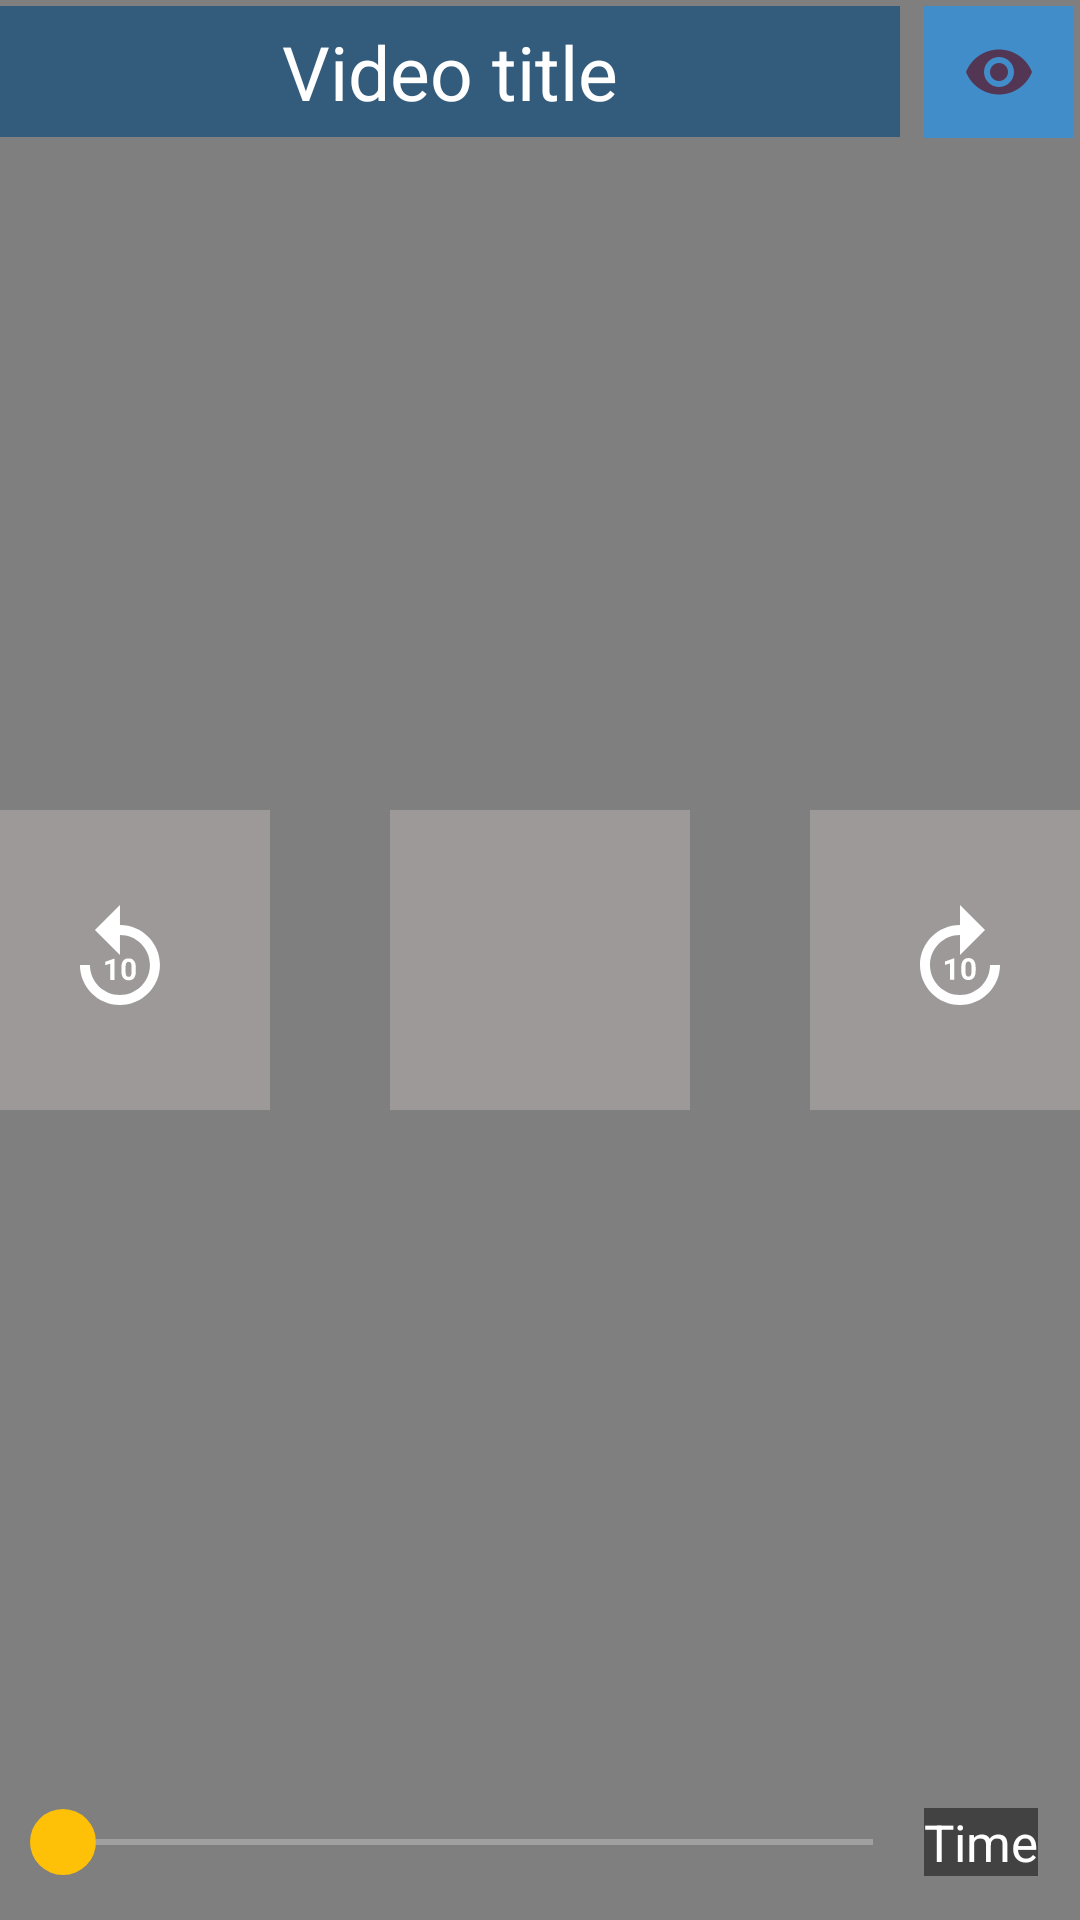

Icons on this 1080 × 1920 Android screen, each with the point to tap as (x,y):
eyetrack: (999,72)
forward: (945,960)
replay: (135,960)
